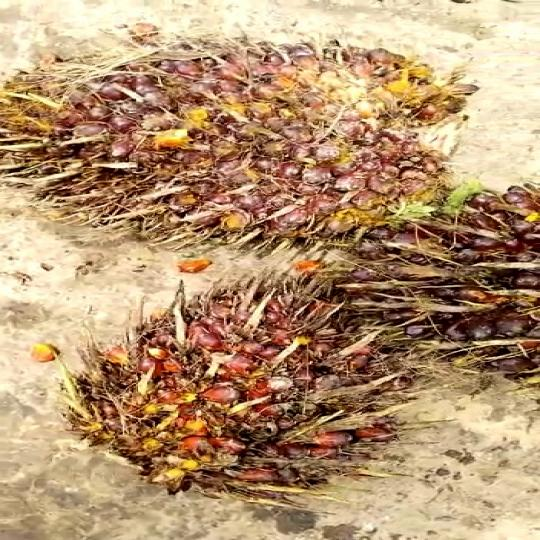masak: (0, 29, 484, 237), (56, 269, 474, 505), (316, 181, 540, 385)
